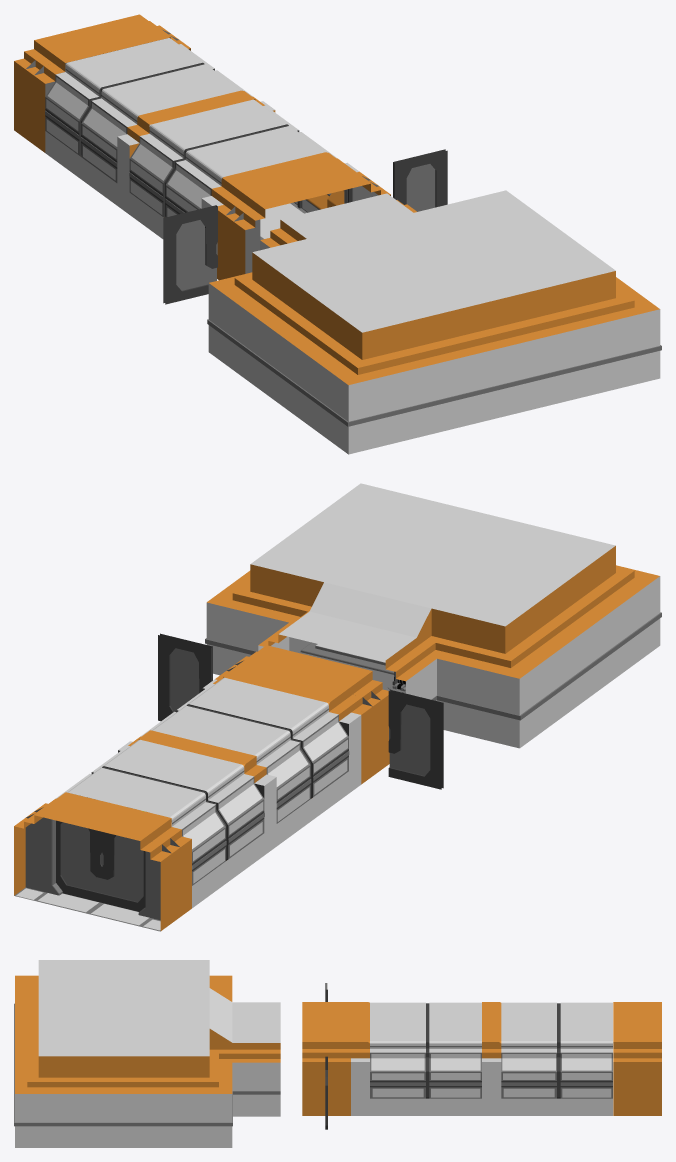
The model's file is Lobby.fbx.
The picture shows the model from 3 angles, top to bottom: view 1: azimuth 30°, elevation 25°; view 2: azimuth 150°, elevation 25°; view 3: azimuth 270°, elevation 25°; orthographic projection. The views are drawn at different scales.
Parts seen in each view (by area): view 1: Plane.002, ModularScifiCorridor, Door, Door_2; view 2: Plane.002, ModularScifiCorridor, Door_2, Door; view 3: Plane.002, ModularScifiCorridor, Door, Door_2.
Boxes of the visible parts, x1=… form: Plane.002: x1=207, y1=190, x2=661, y2=454; ModularScifiCorridor: x1=45, y1=38, x2=358, y2=239; Door: x1=163, y1=149, x2=447, y2=304; Door_2: x1=14, y1=14, x2=190, y2=152; Plane.002: x1=205, y1=483, x2=661, y2=748; ModularScifiCorridor: x1=56, y1=668, x2=361, y2=908; Door_2: x1=14, y1=792, x2=191, y2=931; Door: x1=158, y1=633, x2=443, y2=789; Plane.002: x1=14, y1=960, x2=280, y2=1147; ModularScifiCorridor: x1=351, y1=1002, x2=612, y2=1115; Door: x1=302, y1=983, x2=350, y2=1129; Door_2: x1=613, y1=1002, x2=661, y2=1115.
Size of the model in its own units: 1173 by 375 by 2695.
